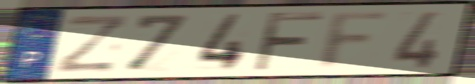4: (194, 12, 247, 73), (392, 9, 443, 70)
7: (127, 13, 191, 74)
F: (314, 9, 397, 72), (250, 10, 326, 74)
Z: (53, 14, 132, 75)
